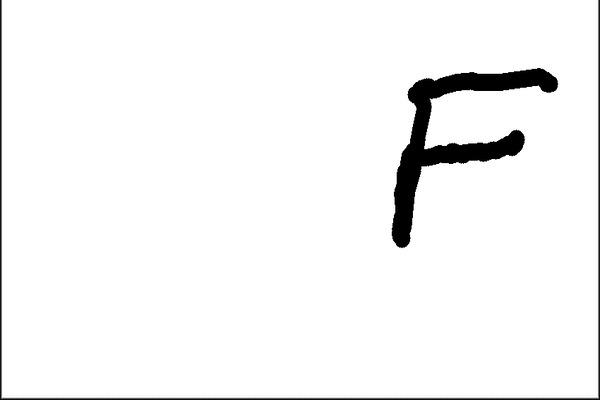F: (387, 65, 558, 248)
